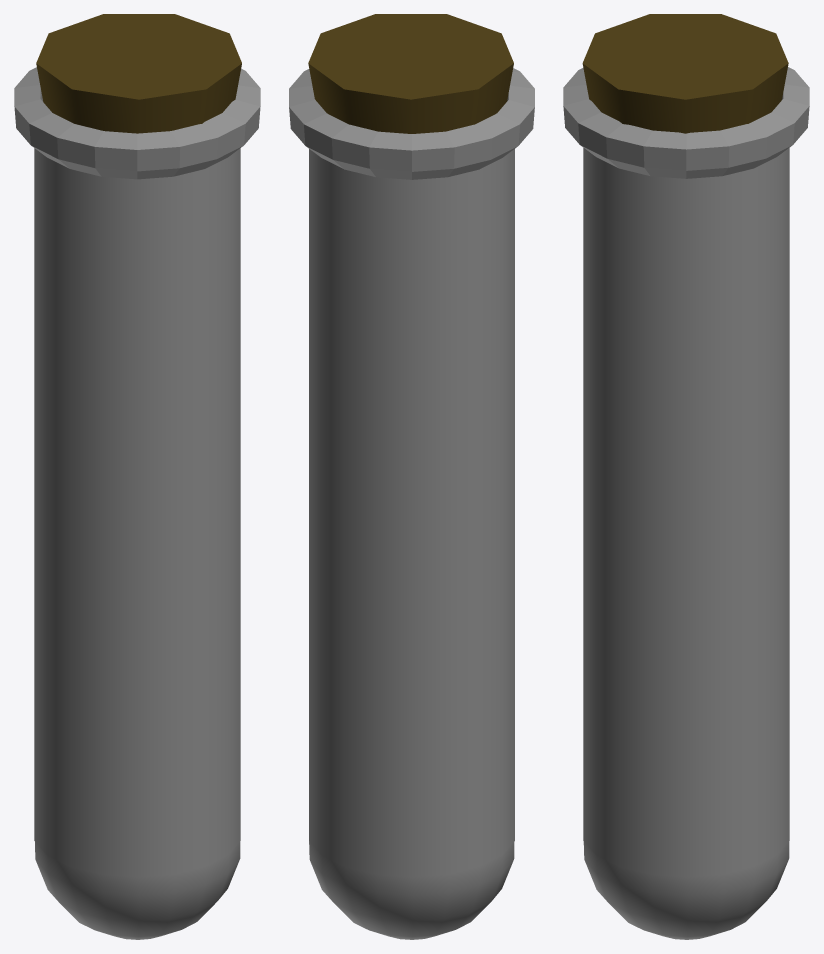
The model's file is RoundVial.FBX.
3 renders of one model, left to right at view 1: azimuth 30°, elevation 25°; view 2: azimuth 150°, elevation 25°; view 3: azimuth 270°, elevation 25°, orthographic.
Visible parts, largest first — view 1: Sphere001, Cylinder001; view 2: Sphere001, Cylinder001; view 3: Sphere001, Cylinder001.
Part boxes in pixels (x1,y1,x2,y2): Sphere001: [14, 67, 260, 939]; Cylinder001: [36, 14, 241, 133]; Sphere001: [289, 68, 534, 939]; Cylinder001: [308, 14, 513, 133]; Sphere001: [563, 67, 809, 939]; Cylinder001: [582, 14, 788, 133].
Size of the model in its own units: 13.34 by 51.54 by 13.14.
